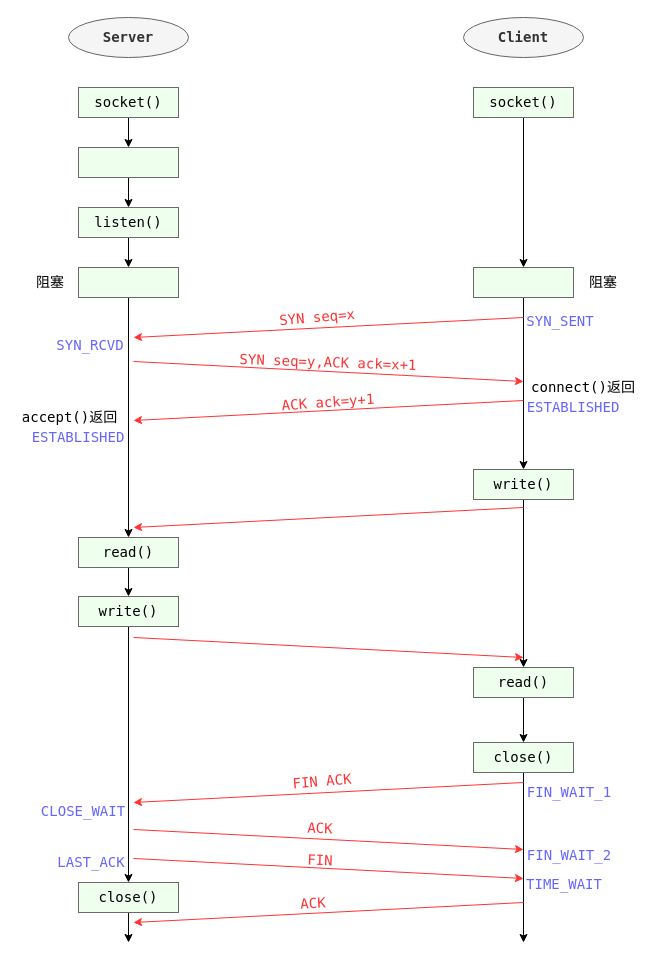
This 660x968 diagram has some shape labels left out. Each missing label, with the centre of its shape:
"accept()" goes at [128,282].
"bind()" goes at [128,162].
"connect()" goes at [523,282].
